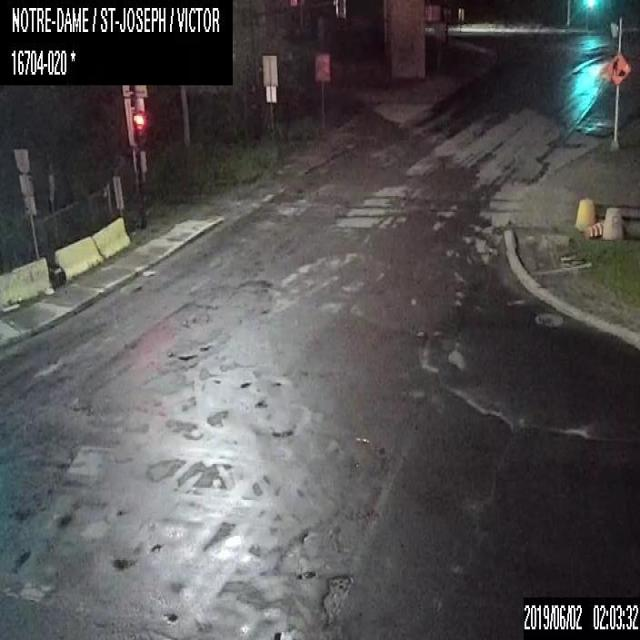construction: (606, 52, 632, 84), (586, 221, 603, 236)
